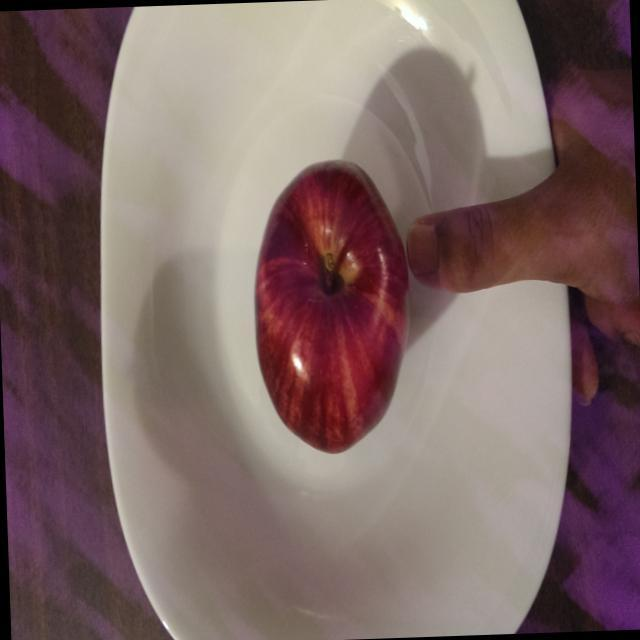Apple: (243, 152, 418, 463)
Finger: (402, 190, 512, 300)
